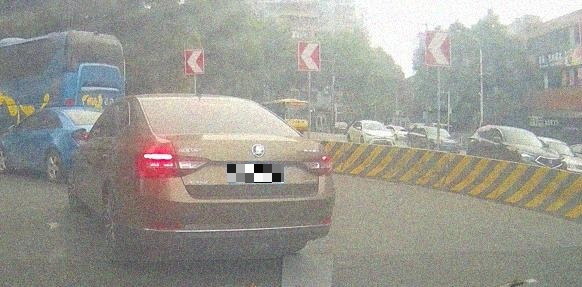L_light: (138, 149, 208, 177)
R_light: (300, 155, 332, 175)
T_light: (186, 100, 215, 104)
day-left: (134, 95, 335, 251)
plate_1: (227, 164, 284, 183)
